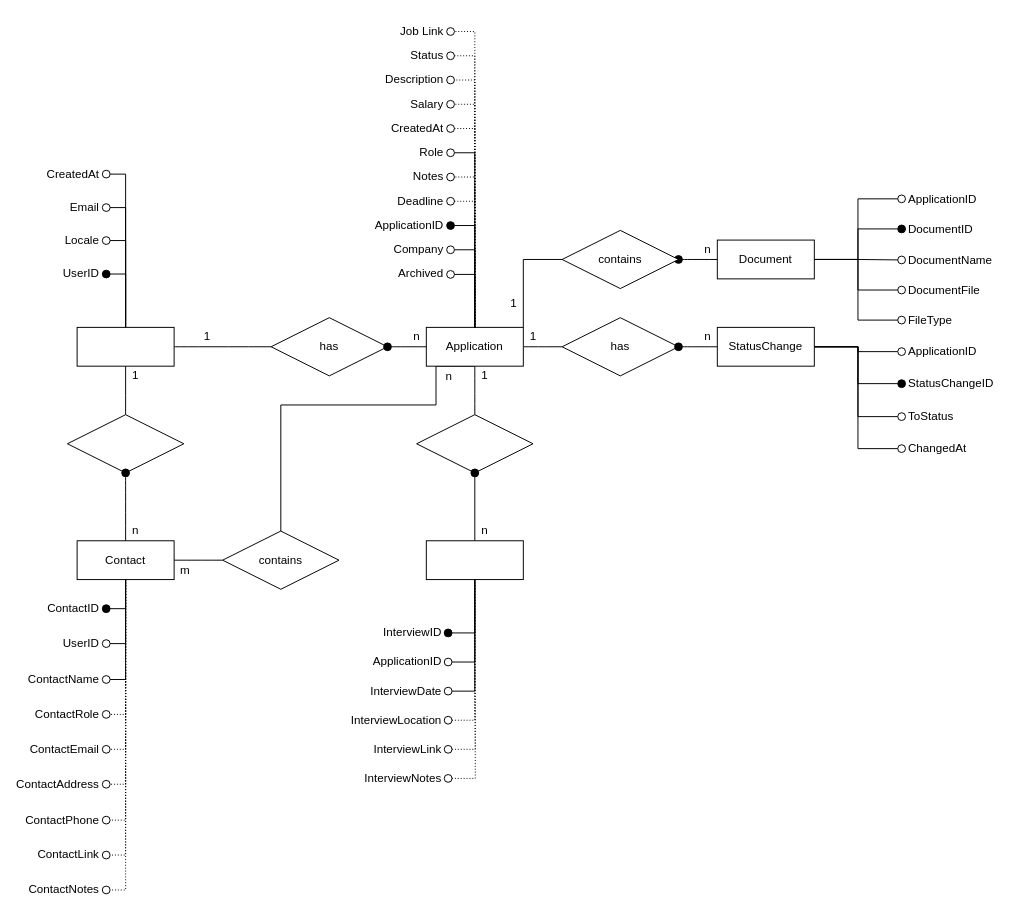
Some shapes in this 1010 by 921 pixel diagram are drawn without their labels. Here are the shapes that lost their labels. From the top down, the box of each, then its label:
(76, 326, 174, 366): User
(66, 414, 184, 473): knows
(416, 414, 533, 473): involves
(425, 540, 523, 580): Interview
